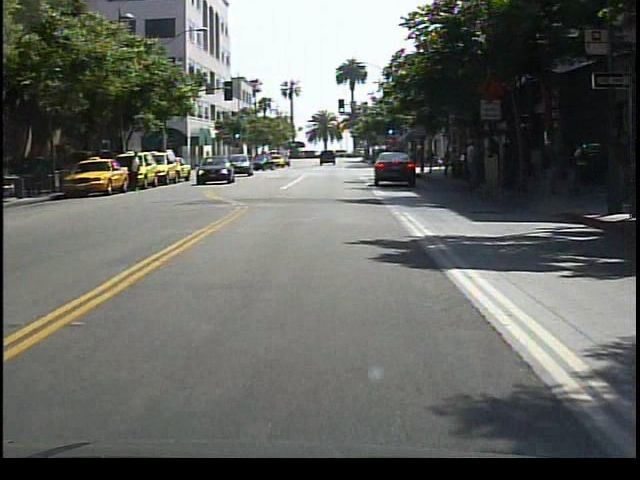person: (462, 134, 485, 196), (129, 147, 147, 196)
